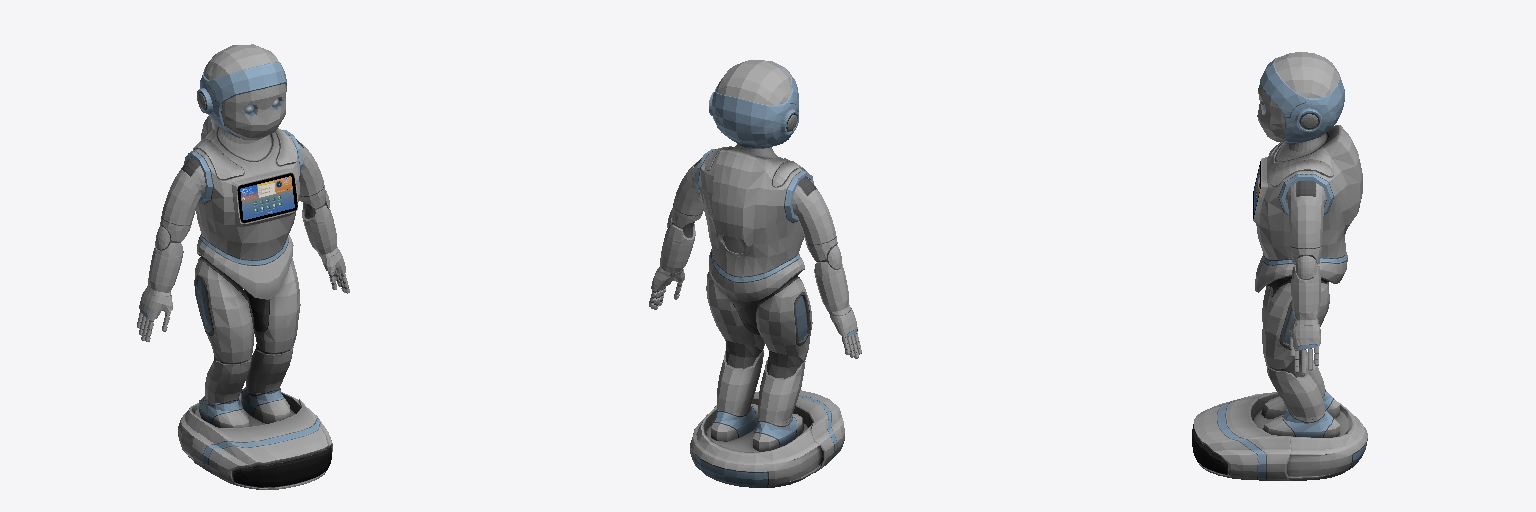
3 renders of one model, left to right at view 1: azimuth 30°, elevation 25°; view 2: azimuth 150°, elevation 25°; view 3: azimuth 270°, elevation 25°, orthographic.
Visible parts, largest first — view 1: default; view 2: default; view 3: default.
Part boxes in pixels (bbox=[...]): default: bbox=[137, 44, 349, 489]; default: bbox=[649, 60, 861, 487]; default: bbox=[1192, 52, 1367, 480].
Bounding box in the file's own units: 537 × 999 × 401.
Materials: 1 (1 with a texture image).